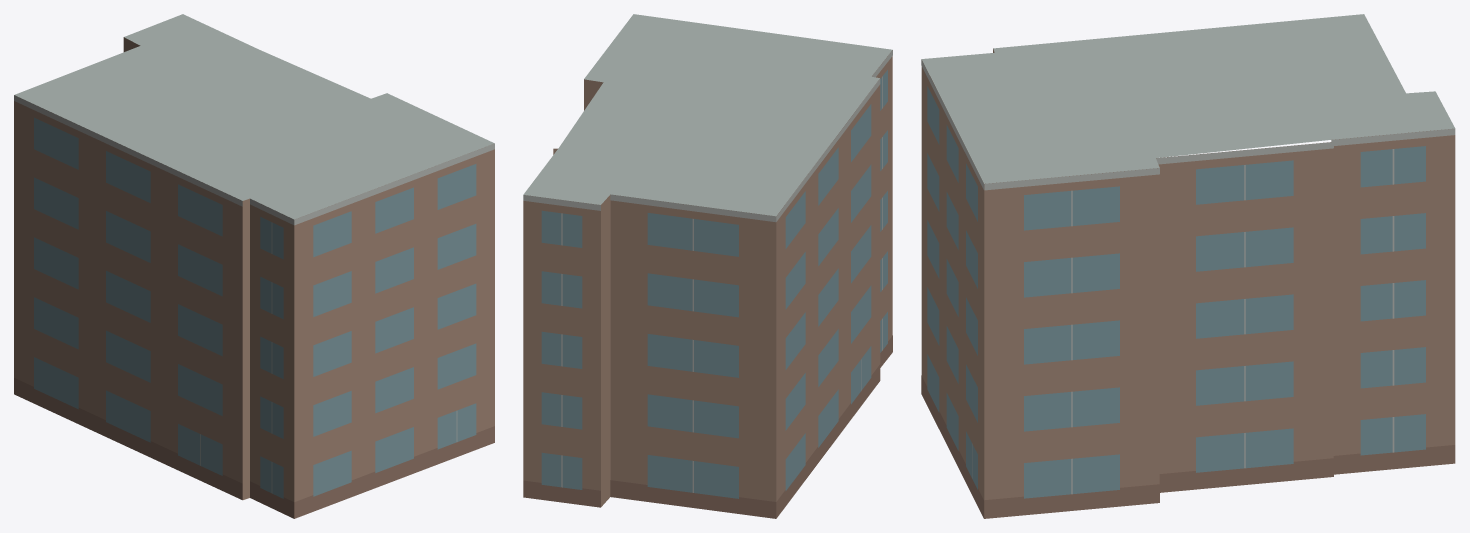
The model's file is survey-upis-32601519.glb.
3 views of the same model, side by side, from view 1: azimuth 30°, elevation 25°; view 2: azimuth 150°, elevation 25°; view 3: azimuth 270°, elevation 25° (orthographic). The views are drawn at different scales.
Parts seen in each view (by area): view 1: survey-upis-32601519.tmp; view 2: survey-upis-32601519.tmp; view 3: survey-upis-32601519.tmp.
Boxes of the visible parts, left/top/right/bottom form: survey-upis-32601519.tmp: left=14, top=14, right=494, bottom=518; survey-upis-32601519.tmp: left=523, top=14, right=892, bottom=518; survey-upis-32601519.tmp: left=921, top=14, right=1455, bottom=518.
Bounding box in the file's own units: 13.49 × 12.4 × 17.92.
